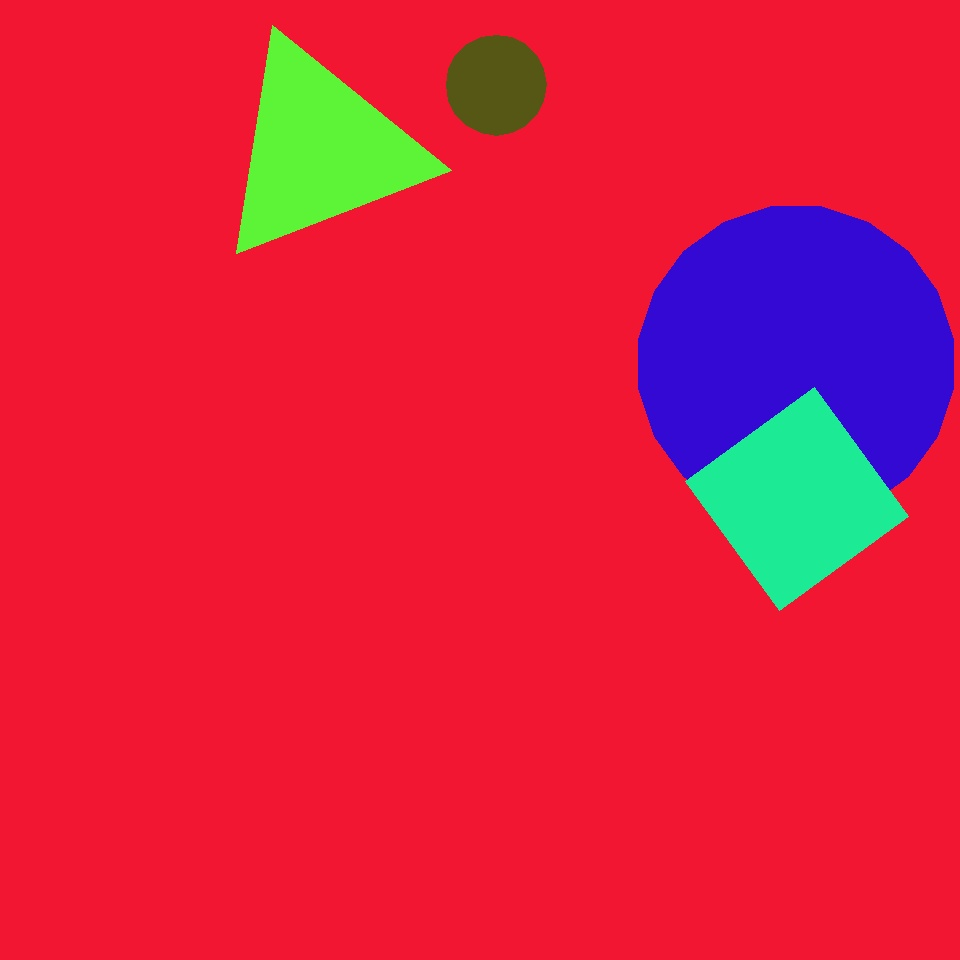circle: (212, 36, 428, 264)
square: (686, 388, 908, 610)
triangle: (112, 78, 464, 429), (638, 206, 954, 522), (677, 550, 894, 767), (446, 35, 546, 135)
